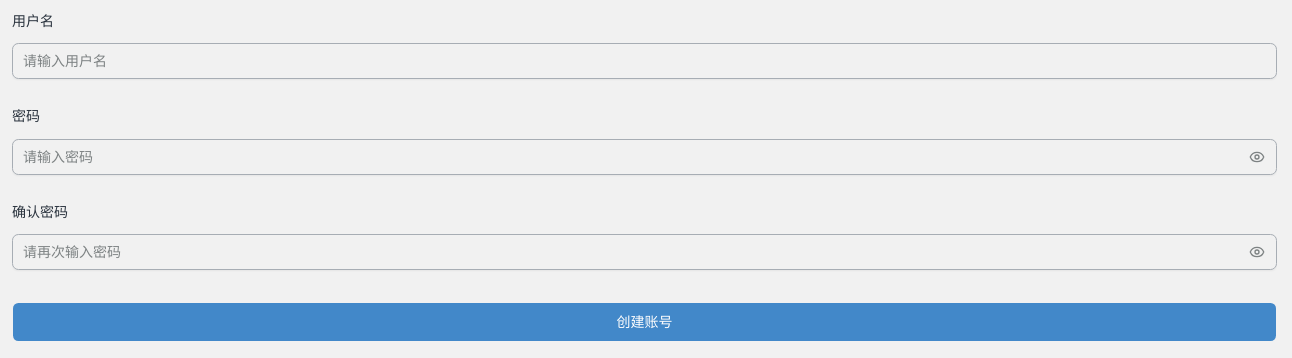
it: RegisterForm › rejects a password shorter than eight characters
Type "new_user" into the field labelled "用户名".
click(644, 61); type("new_user")  # box [12,43,1277,79]
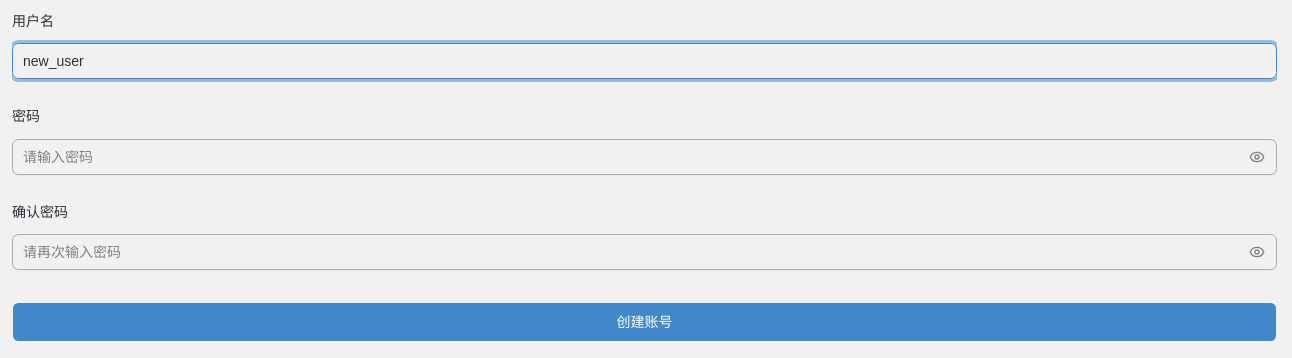
Type "short" into the password field labelled "密码".
click(644, 156); type("short")  # box [12,138,1277,174]
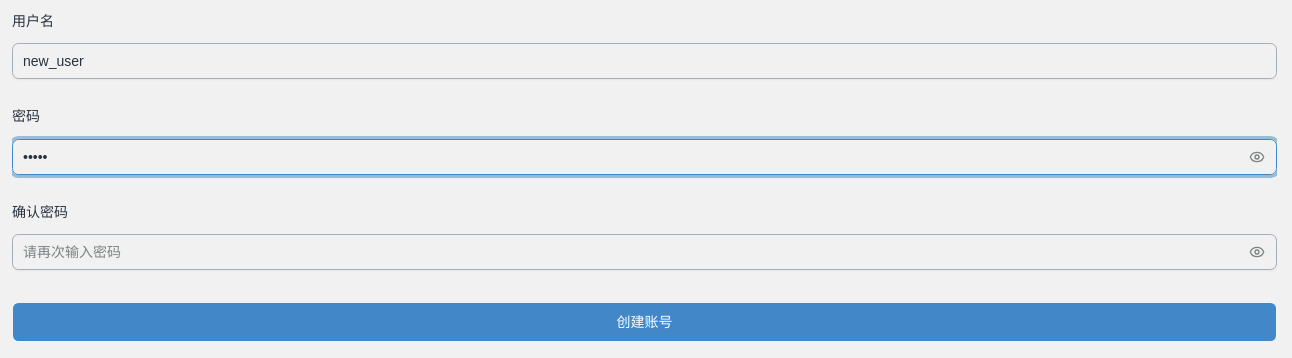
Type "short" into the password field labelled "确认密码".
click(644, 252); type("short")  # box [12,234,1277,270]
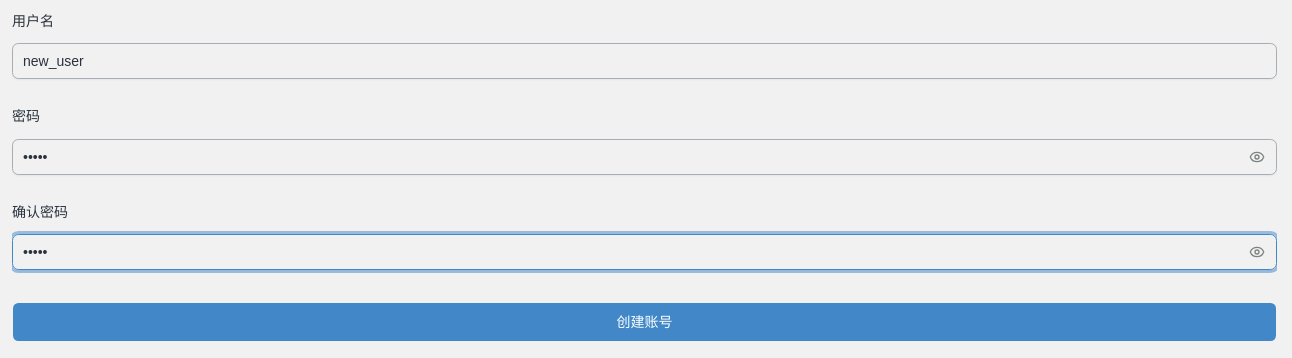
Click the button "创建账号".
click(644, 322)  # box [12,302,1277,342]
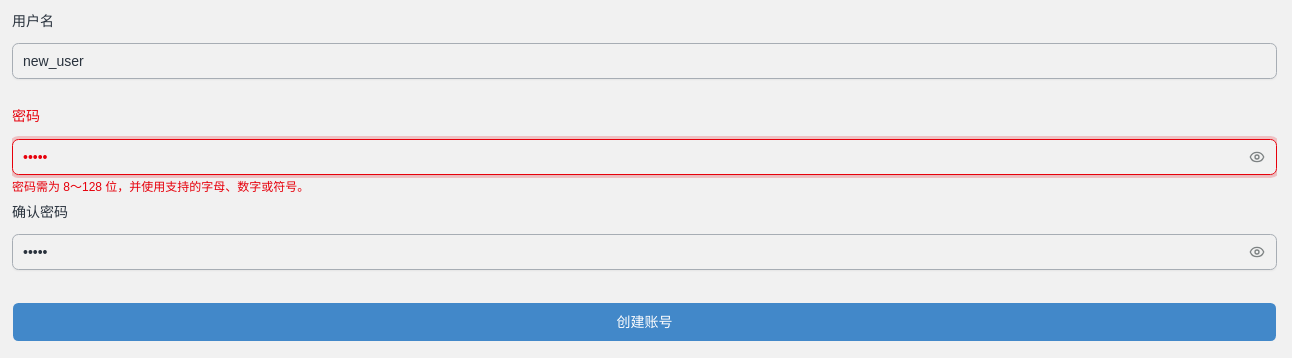
Result: the text "密码需为 8～128 位，并使用支持的字母、数字或符号。" is shown at [12,180,309,194]
